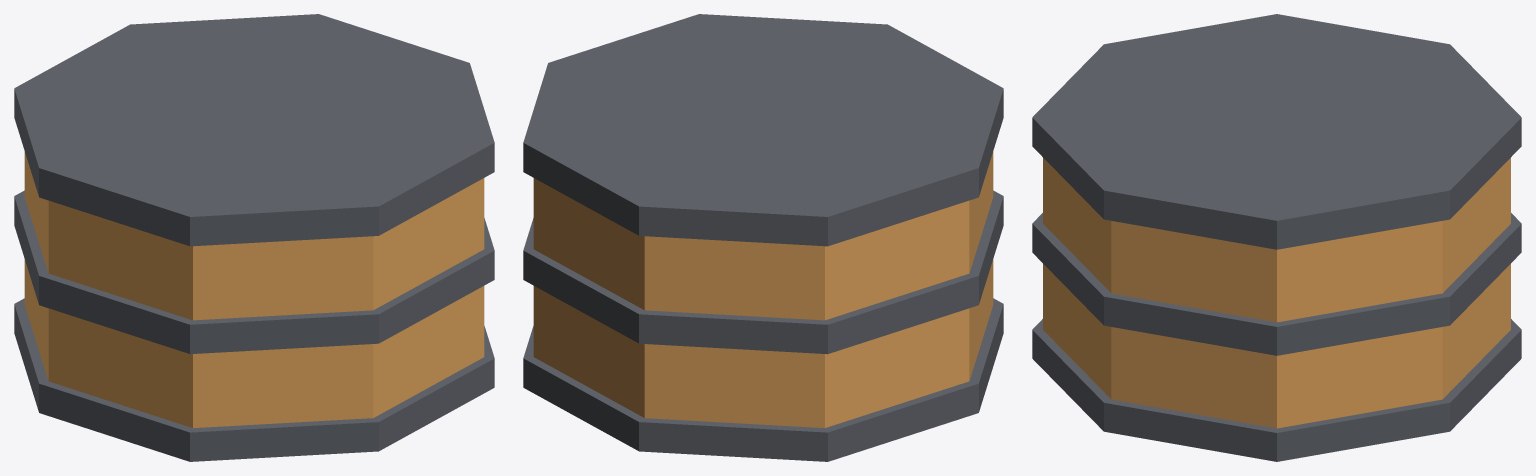
Rendered from chutepack_large.glb.
3 views of the same model, side by side, from view 1: azimuth 30°, elevation 25°; view 2: azimuth 150°, elevation 25°; view 3: azimuth 270°, elevation 25° (orthographic).
Parts seen in each view (by area): view 1: chutepack_large; view 2: chutepack_large; view 3: chutepack_large.
Part boxes in pixels (x1=…): chutepack_large: x1=14, y1=14, x2=494, y2=461; chutepack_large: x1=523, y1=14, x2=1003, y2=461; chutepack_large: x1=1032, y1=14, x2=1521, y2=461.
Size of the model in its own units: 0.92 by 0.5 by 0.92.
